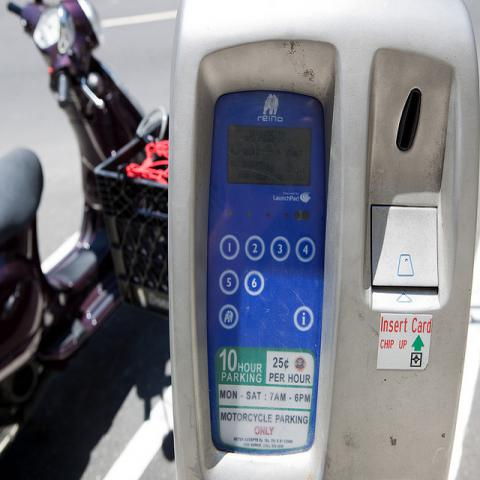motorcycle: (0, 0, 173, 472)
